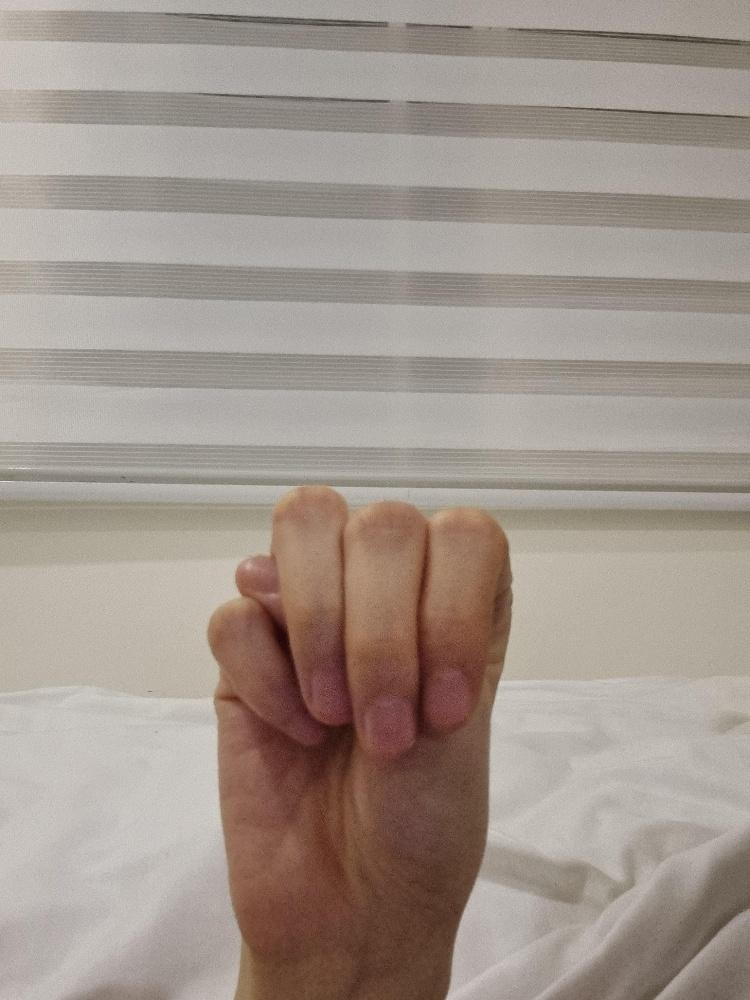m: (206, 479, 515, 962)
